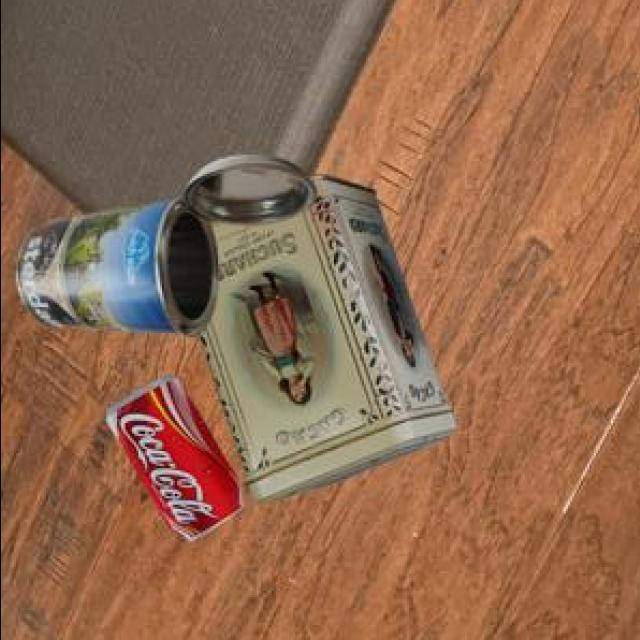logam: (194, 179, 452, 506), (12, 158, 312, 338), (102, 379, 239, 544)
